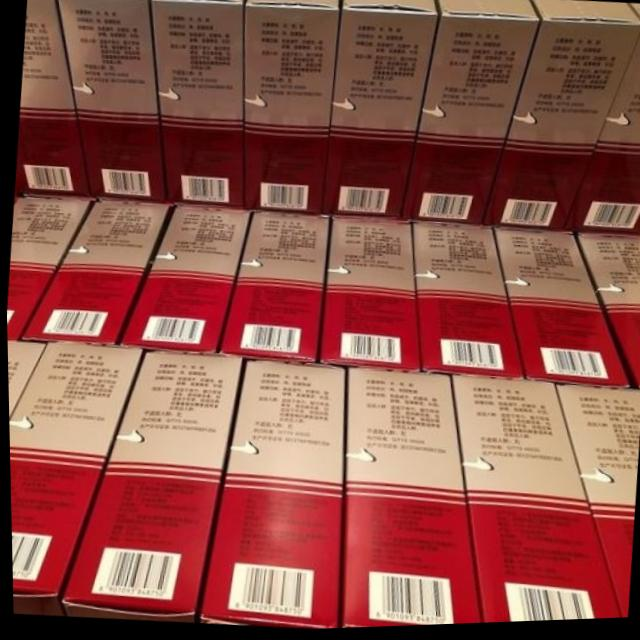box: (59, 351, 240, 623), (449, 377, 619, 626), (195, 360, 344, 631), (480, 2, 640, 235), (7, 342, 141, 614), (338, 370, 478, 630), (400, 0, 538, 229), (321, 0, 437, 221), (493, 229, 629, 394), (18, 198, 169, 346), (56, 0, 165, 203), (552, 386, 640, 622), (244, 0, 340, 215), (151, 0, 246, 210), (117, 206, 249, 353), (411, 223, 523, 385), (216, 211, 329, 363), (318, 217, 419, 375), (564, 36, 640, 239), (13, 0, 89, 197), (5, 195, 91, 340), (574, 235, 640, 392), (6, 340, 44, 416)
